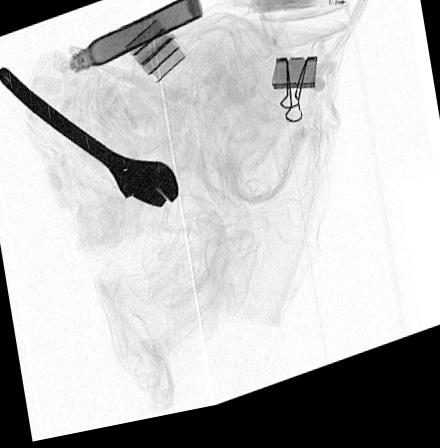Wrench: (0, 66, 181, 214)
